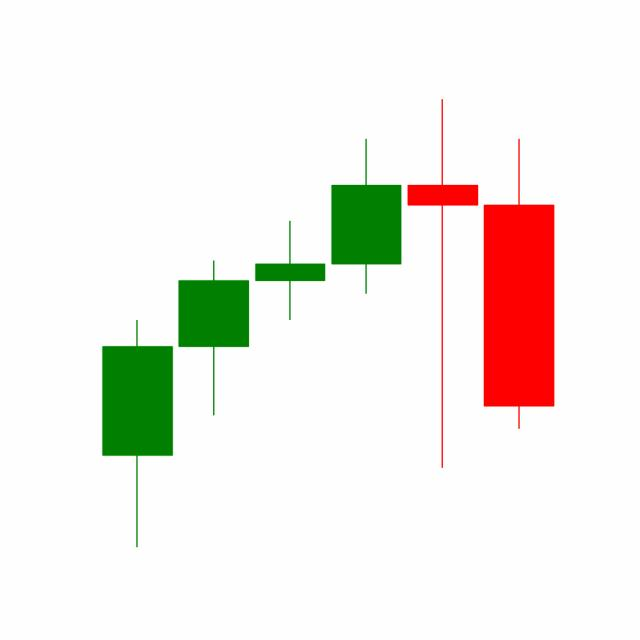Spinning Top: (403, 95, 481, 472)
